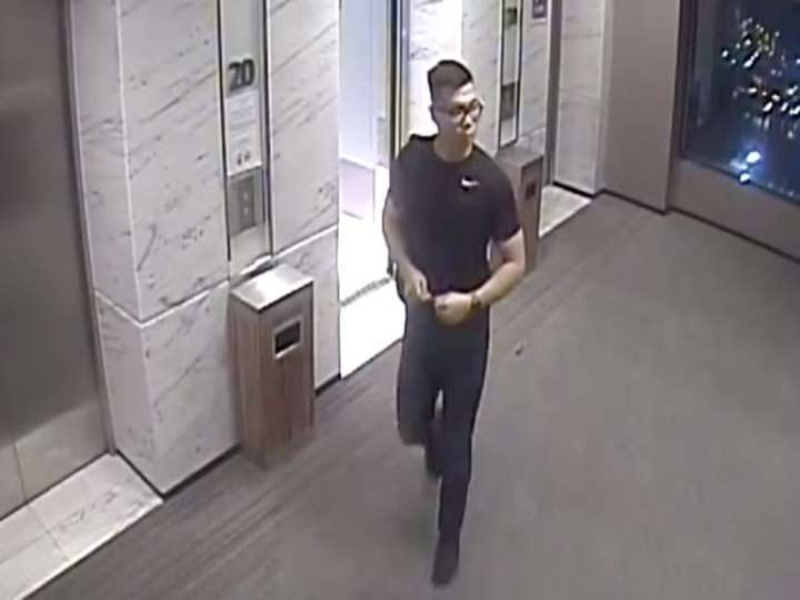person: (379, 51, 530, 600)
